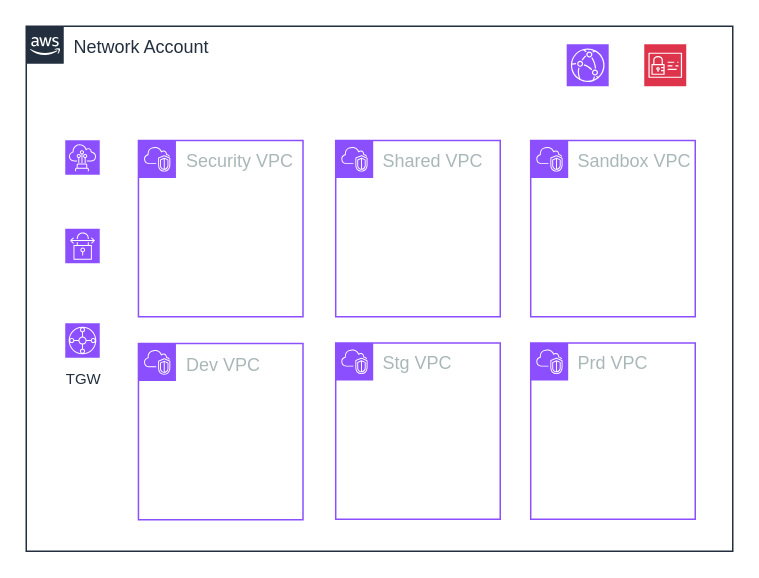
Some shapes in this 759 by 578 pixel diagram are drawn without their labels. Here are the shapes that lost their labels. From the top down, the centre of each, then its label:
the point at 587,64: CloudFront
the point at 664,64: IAM
the point at 82,157: DX
the point at 82,245: VPN
